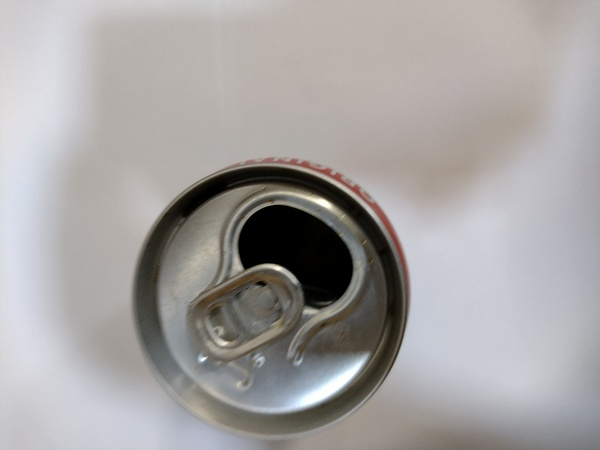can: (120, 160, 424, 435)
